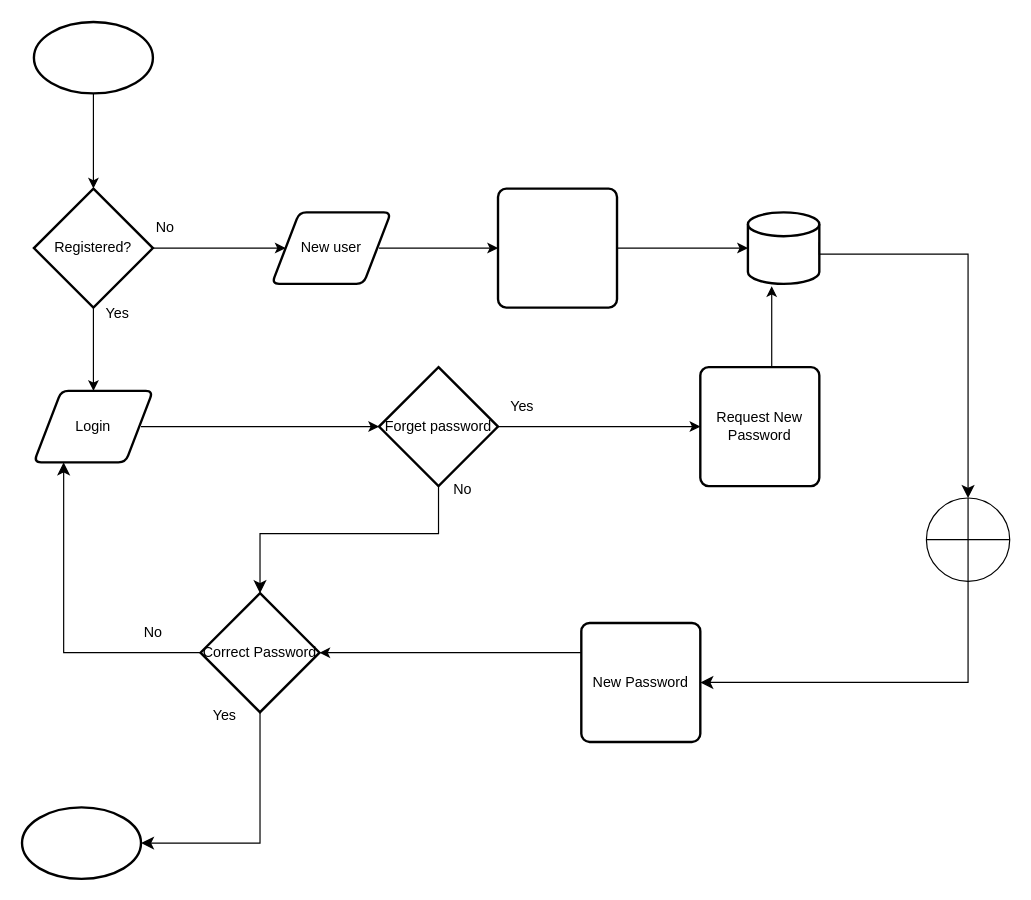
The diagram is 1031 pixels wide and 900 high, and some of its shapes have lost their labels. The shapes that lost their labels are listed below. From the top down, each one's centre as x and y in pixels, then its label:
At (93,57): "START".
At (557,247): "Registration".
At (783,247): "User data".
At (81,842): "END".
